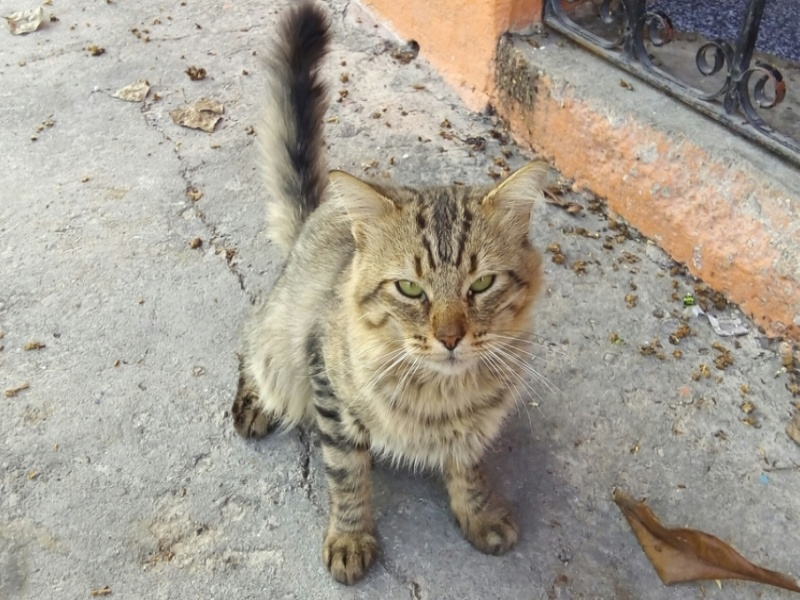cat: (217, 12, 546, 587)
